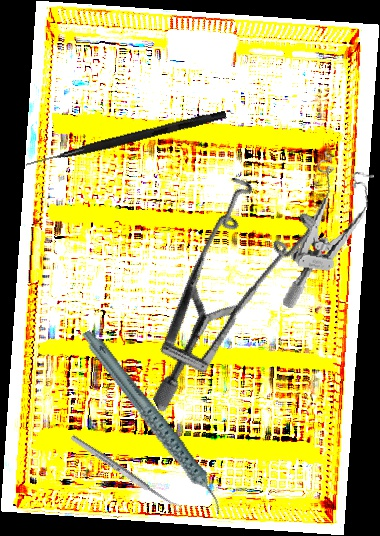Handpiece: (79, 310, 225, 536)
Hook Surgical: (25, 107, 227, 172)
Speculum: (80, 153, 361, 414), (282, 147, 377, 319)
Surgical Spoon: (69, 433, 183, 514)
